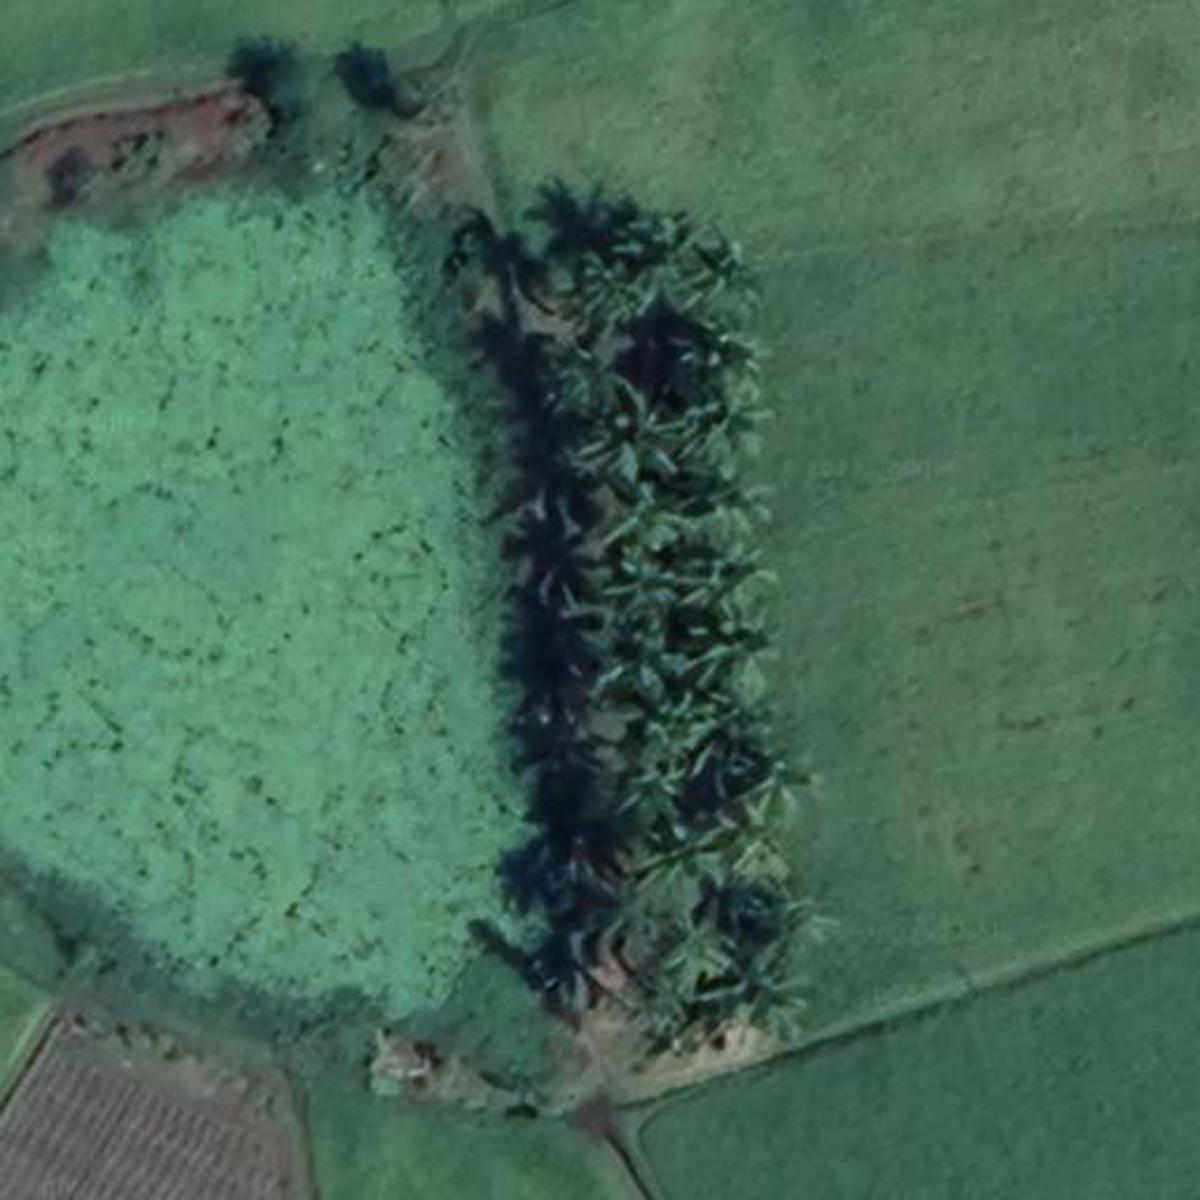coconut: (584, 384, 686, 487), (675, 370, 775, 473), (705, 785, 803, 885), (667, 225, 764, 325), (724, 949, 820, 1045), (625, 967, 724, 1057), (727, 876, 820, 970), (625, 670, 712, 766), (679, 452, 764, 548), (574, 236, 658, 332), (584, 616, 673, 707), (614, 731, 698, 825), (604, 464, 689, 555), (536, 338, 625, 424), (691, 663, 775, 749), (731, 727, 813, 815), (673, 309, 757, 393), (693, 534, 778, 618), (538, 520, 616, 604), (642, 820, 721, 902), (611, 548, 700, 621), (700, 604, 778, 686), (660, 911, 738, 986)
